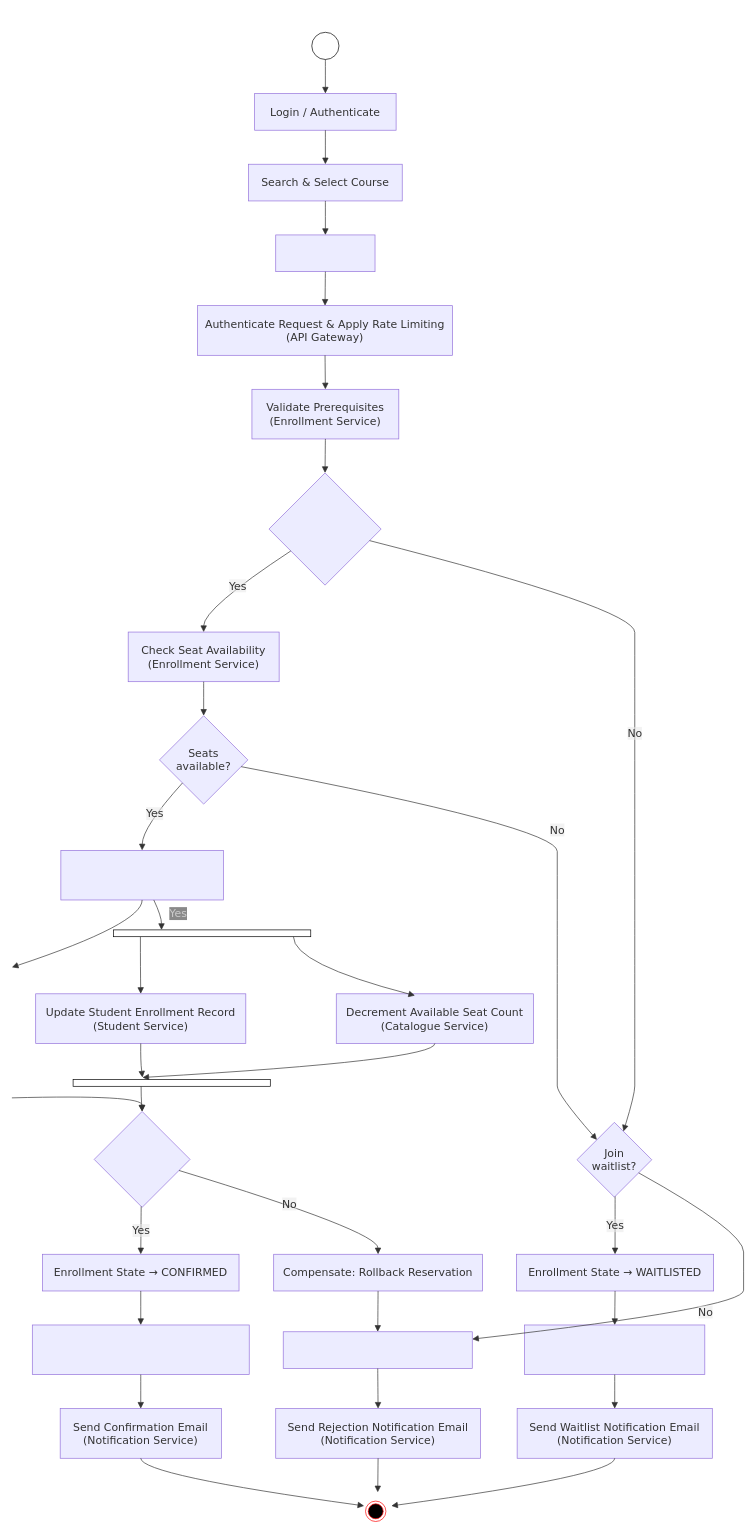
The diagram is 755 pixels wide and 1533 high, and some of its shapes have lost their labels. The shapes that lost their labels are listed below. From the top down, each one's box as (x1, y1, x2, y2) in pixels, then its label:
(275, 234, 375, 272): Click 'Enroll'
(268, 472, 381, 585): Prerequisites met?
(60, 850, 223, 900): Begin Saga: Reserve Seat (Enrollment Service)
(94, 1111, 190, 1207): Saga step successful?
(32, 1324, 249, 1375): Publish 'EnrollmentConfirmed' Event (Event Bus)
(283, 1331, 472, 1368): Enrollment State → REJECTED
(524, 1324, 705, 1375): Publish 'WaitlistAdded' Event (Event Bus)
